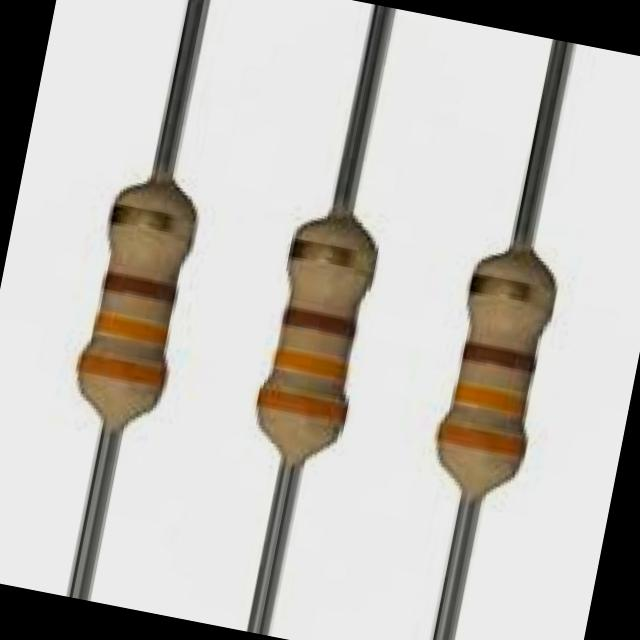Resistor: (258, 164, 379, 530), (437, 227, 556, 553), (78, 145, 197, 454)
brown: (281, 302, 360, 343), (462, 342, 538, 378), (102, 274, 178, 304)
gold: (466, 272, 558, 312), (288, 238, 380, 276), (104, 200, 194, 238)
orange: (254, 379, 352, 426), (445, 378, 532, 422), (74, 351, 170, 390), (437, 424, 528, 462), (87, 312, 170, 347), (269, 347, 347, 380)
